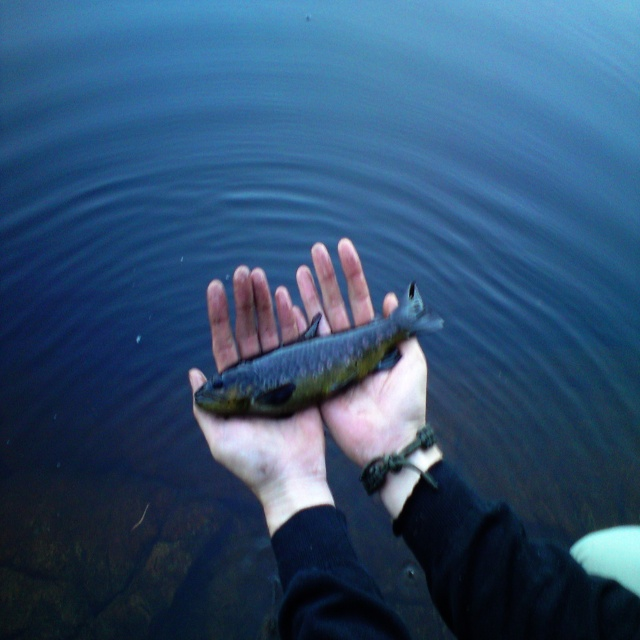Fish: (194, 279, 444, 421)
